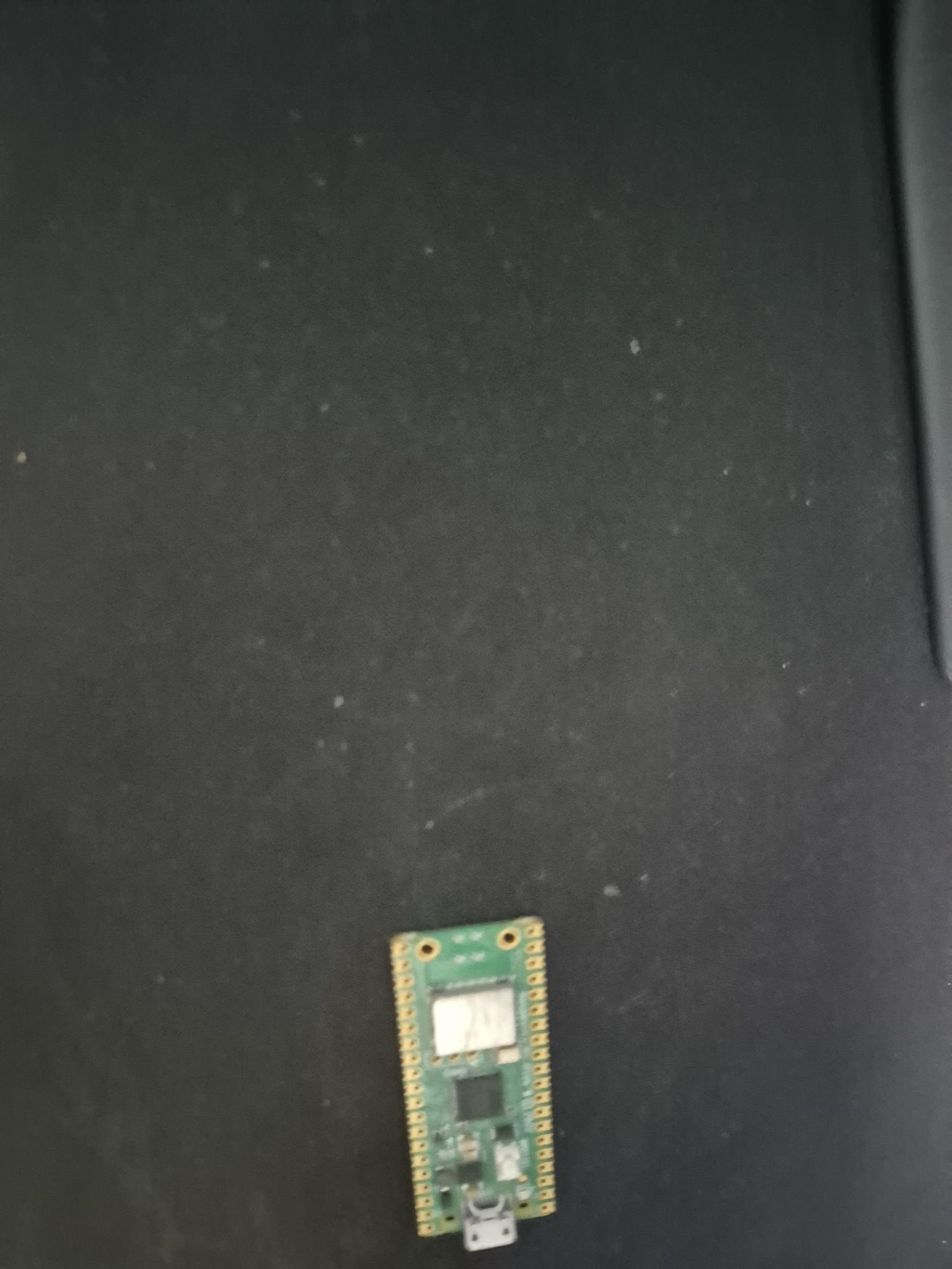raspberry-pi-pico-w: (391, 918, 556, 1236)
